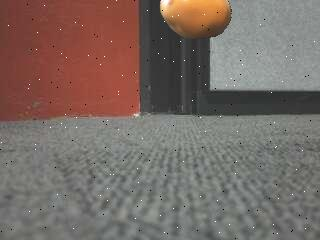Potato: (156, 0, 233, 41)
